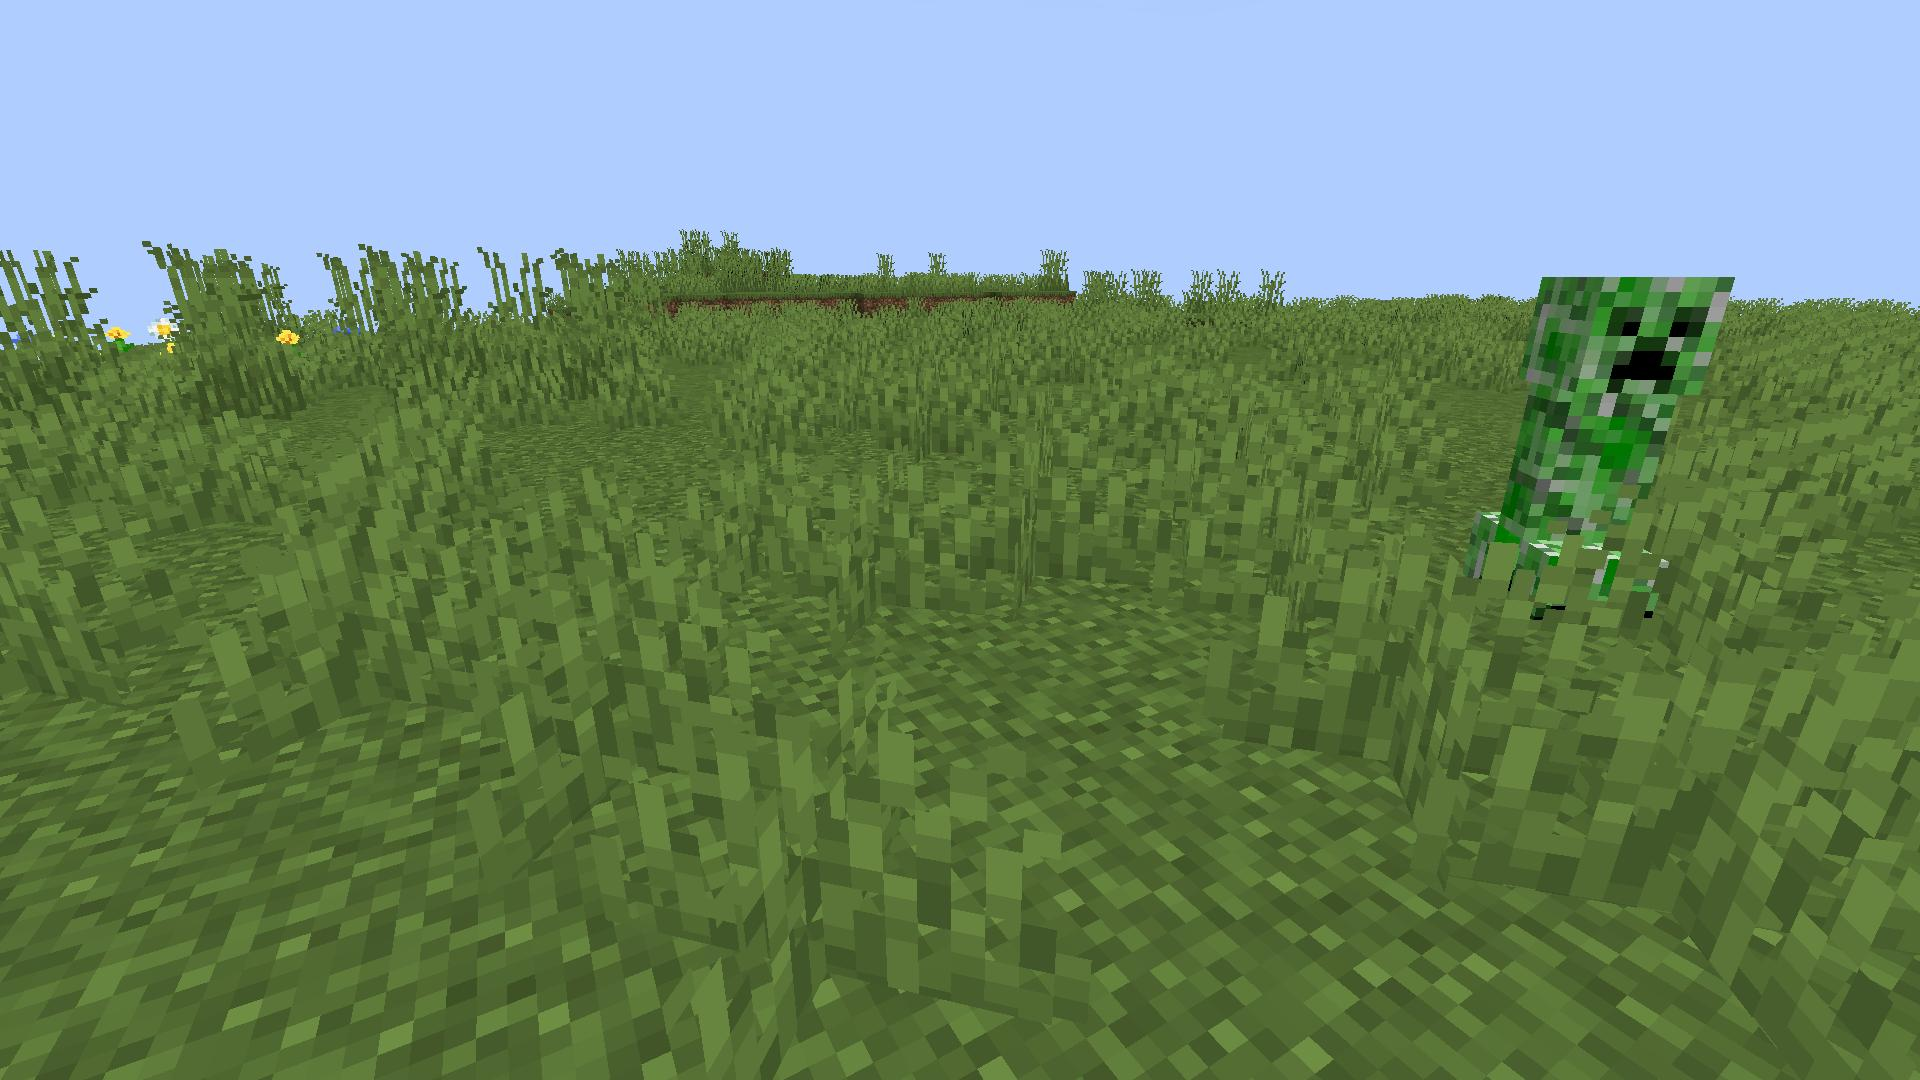creeper: (1460, 243, 1749, 683)
